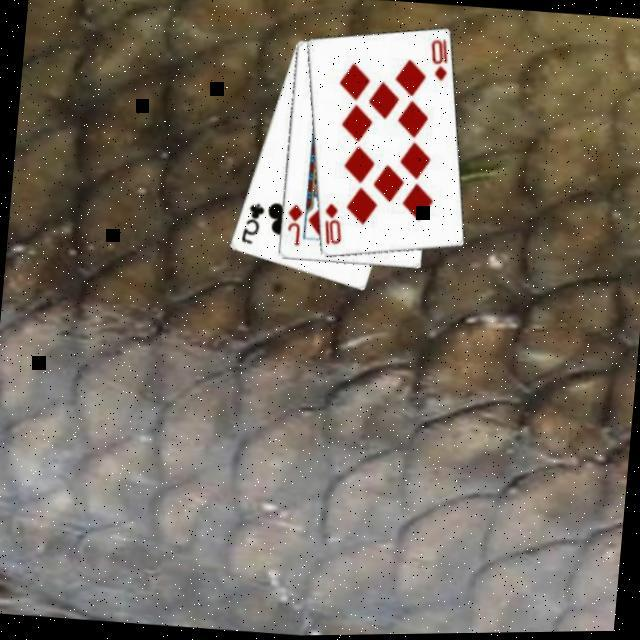10D: (422, 36, 450, 86), (317, 201, 345, 249)
5C: (235, 200, 265, 248)
JD: (280, 201, 304, 249)
